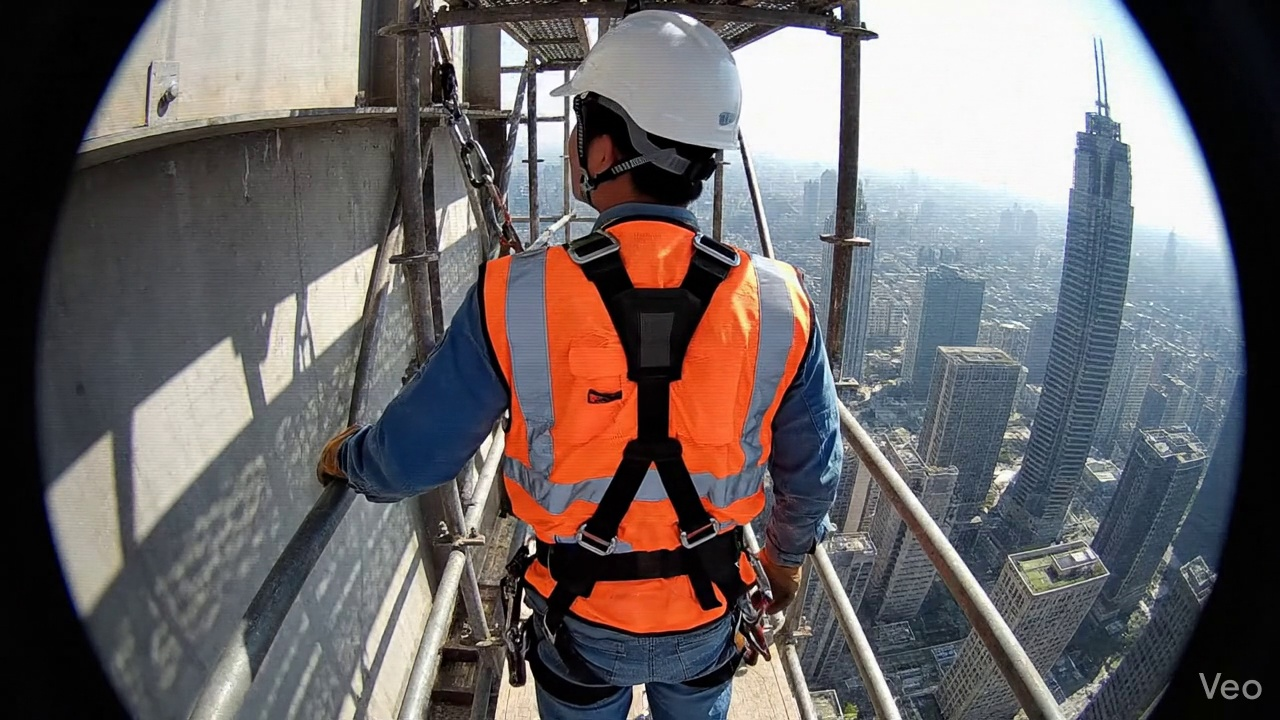person: (317, 10, 842, 719)
